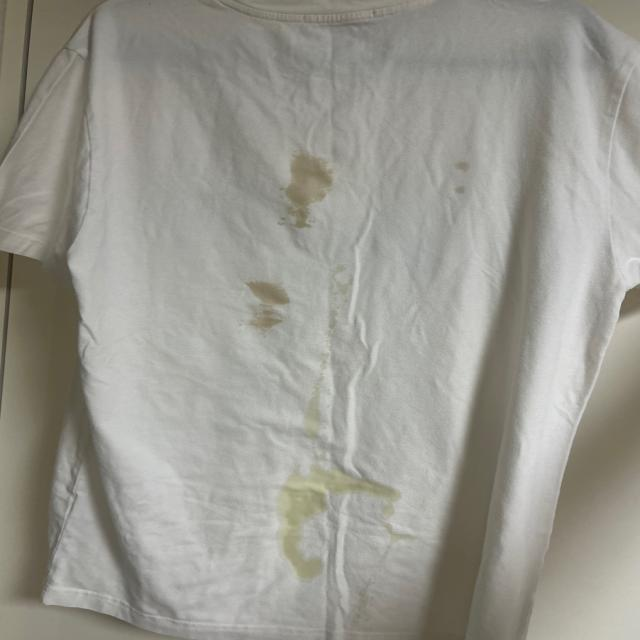stain: (276, 467, 405, 510), (286, 152, 329, 240), (282, 498, 329, 576), (244, 276, 292, 338), (308, 362, 332, 442), (316, 269, 353, 310), (448, 150, 470, 206)
